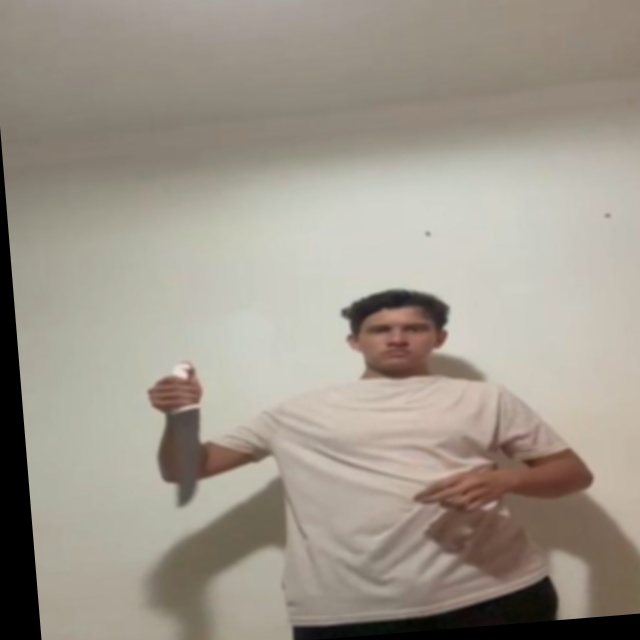Sharp-Object: (157, 399, 217, 509)
